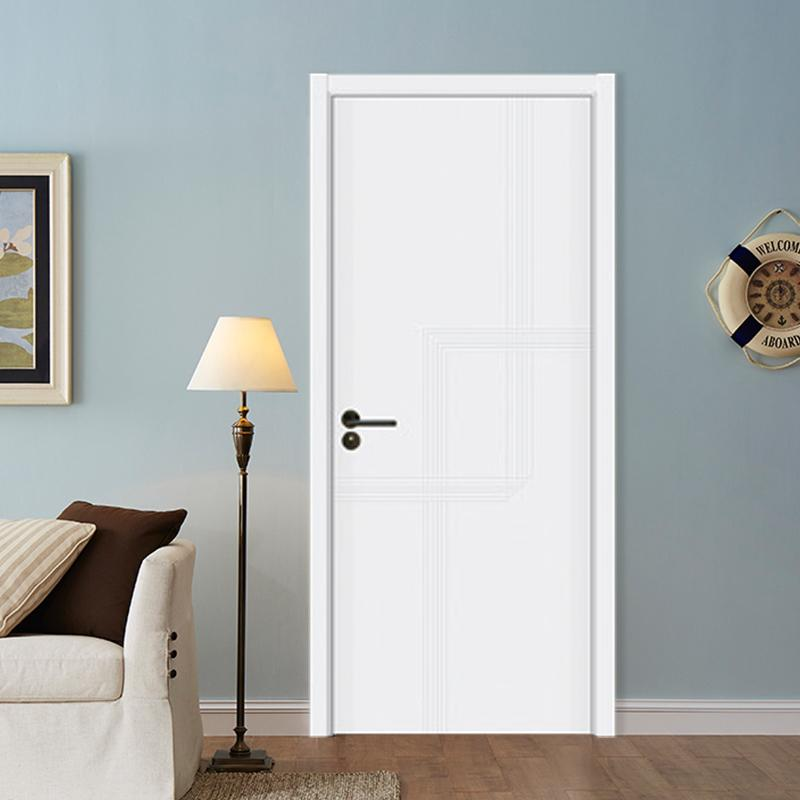door: (328, 93, 598, 732)
